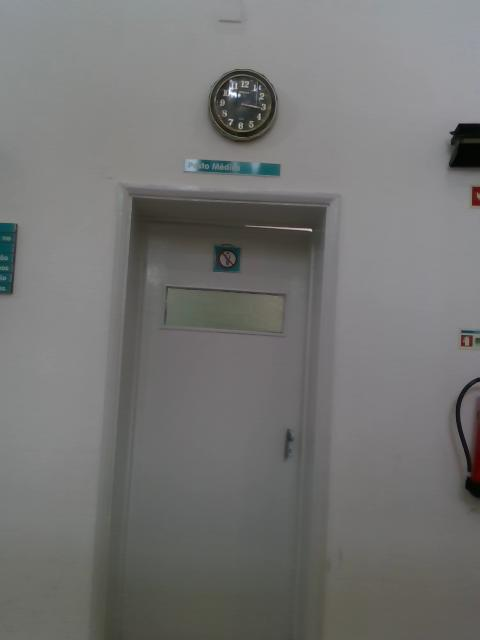closed_door: (109, 181, 332, 638)
